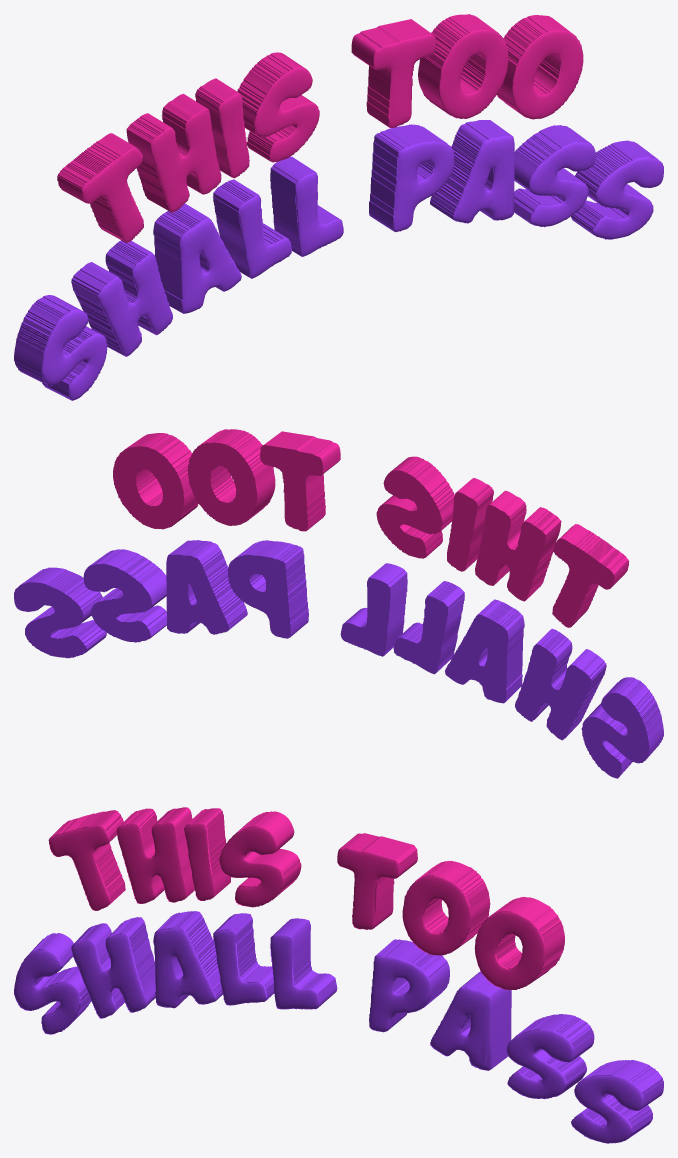
File: HandRainbowTexts2.gltf
The picture shows the model from 3 angles, top to bottom: view 1: azimuth 30°, elevation 25°; view 2: azimuth 150°, elevation 25°; view 3: azimuth 330°, elevation 25°; orthographic projection. The views are drawn at different scales.
Visible parts, largest first — view 1: Shall Pass 2, This too 2; view 2: Shall Pass 2, This too 2; view 3: Shall Pass 2, This too 2.
Part boxes in pixels (left/top/right/bottom): Shall Pass 2: left=14, top=120, right=663, bottom=400; This too 2: left=57, top=14, right=583, bottom=242; Shall Pass 2: left=14, top=540, right=663, bottom=778; This too 2: left=113, top=429, right=629, bottom=627; Shall Pass 2: left=14, top=911, right=663, bottom=1143; This too 2: left=48, top=807, right=564, bottom=989.
Bounding box in the file's own units: 0.3916 × 0.1578 × 0.052.
